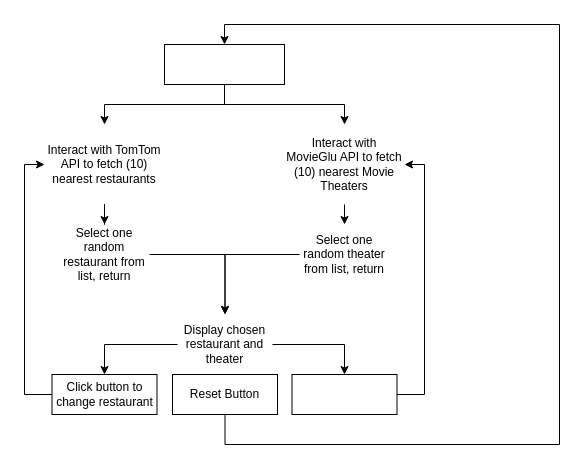
This 585x470 diagram has some shape labels left out. Here are the shapes that lost their labels. From the top down, the centre of each, then its label:
At (x=224, y=64): "Input Zip Code".
At (x=344, y=394): "Click button to change theater".
